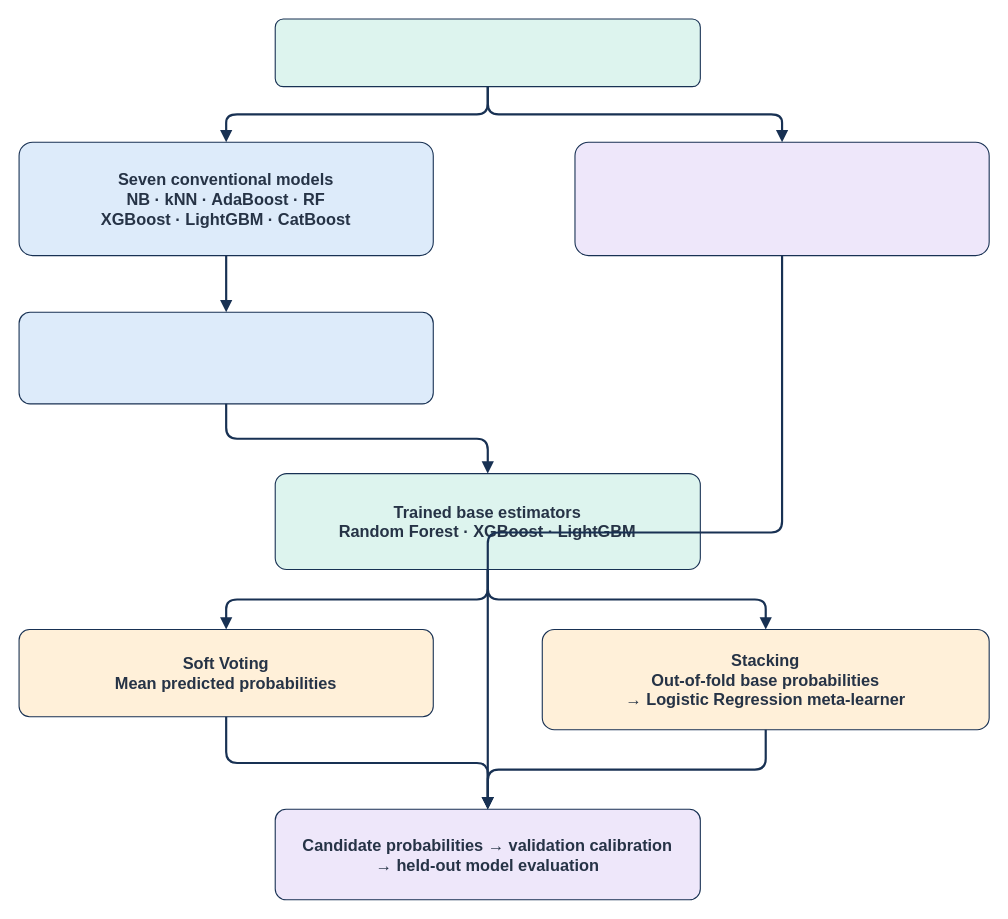
This 1008x919 diagram has some shape labels left out. Here are the shapes that lost their labels. From the top down, the centre of each, then its label:
the point at 487,52: Training partition + training-only preprocessing
the point at 781,198: BO-TabNet Optuna TPE (30 trials)
the point at 225,357: RandomizedSearchCV 5-fold, F2 scoring for tuned models
